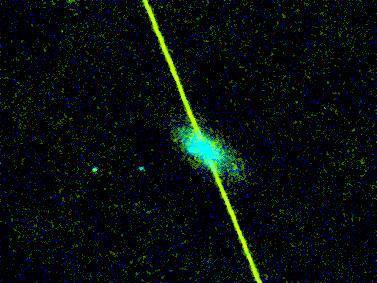star: (222, 151, 252, 181)
